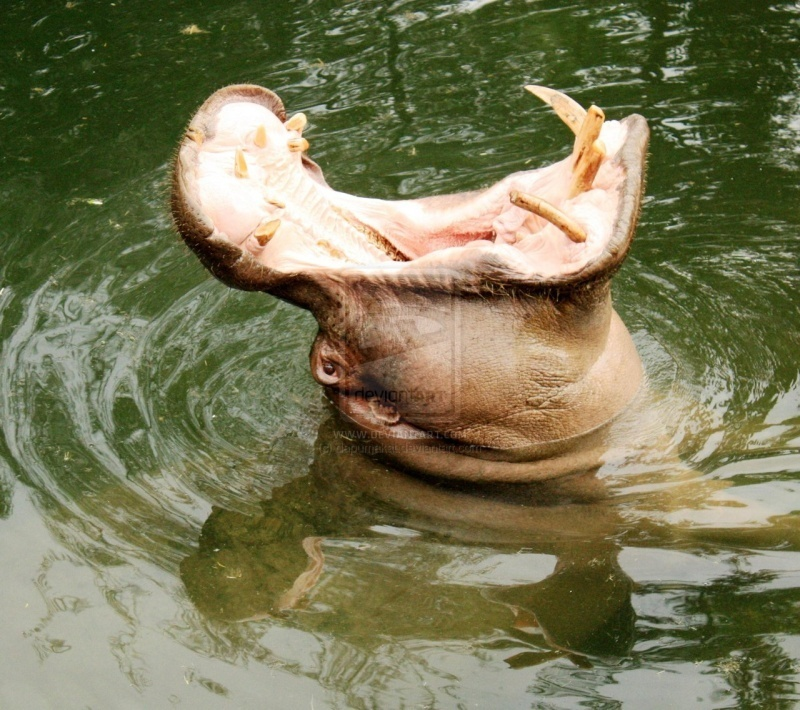hipopotamo: (154, 59, 736, 545)
